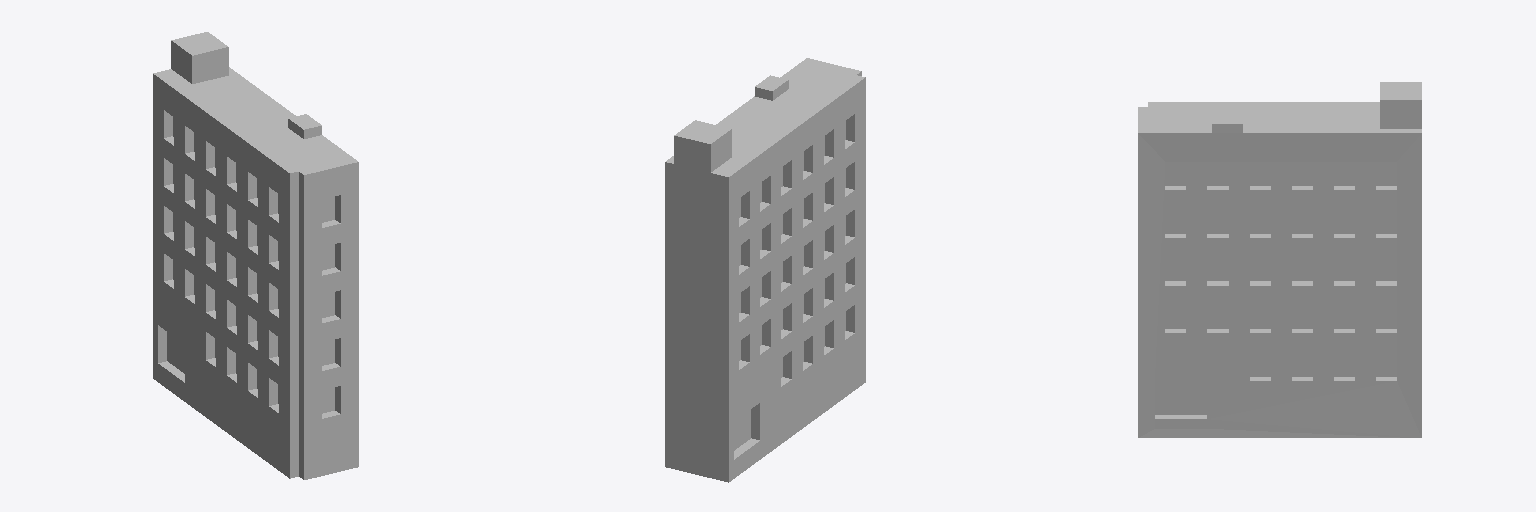
File: building12.obj
The picture shows the model from 3 angles: view 1: azimuth 30°, elevation 25°; view 2: azimuth 150°, elevation 25°; view 3: azimuth 270°, elevation 25°; orthographic projection.
Parts seen in each view (by area): view 1: building12; view 2: building12; view 3: building12.
Boxes of the visible parts, <box> form: building12: <box>153,32,358,479</box>; building12: <box>665,58,865,482</box>; building12: <box>1138,82,1421,437</box>.
Size of the model in its own units: 7 by 35 by 27.